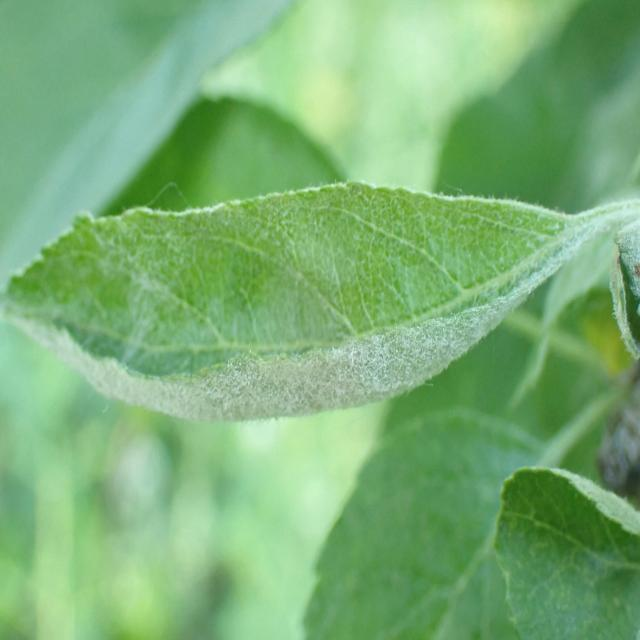Powdery_mildew: (7, 151, 596, 414)
